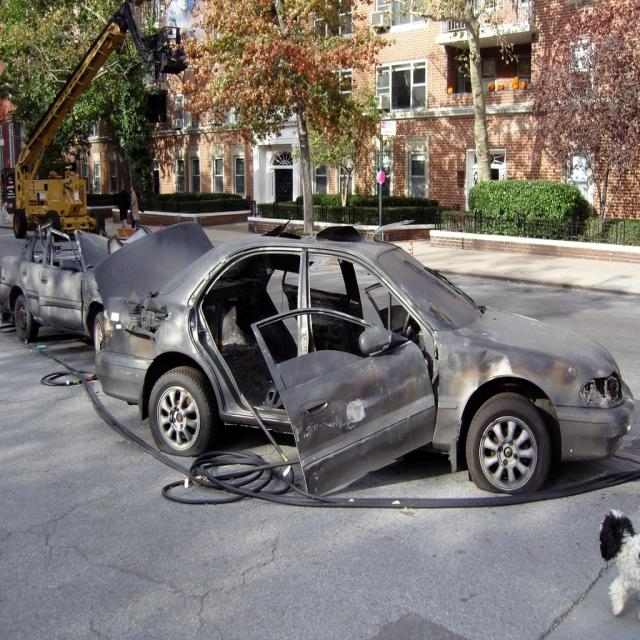car: (96, 222, 635, 495)
